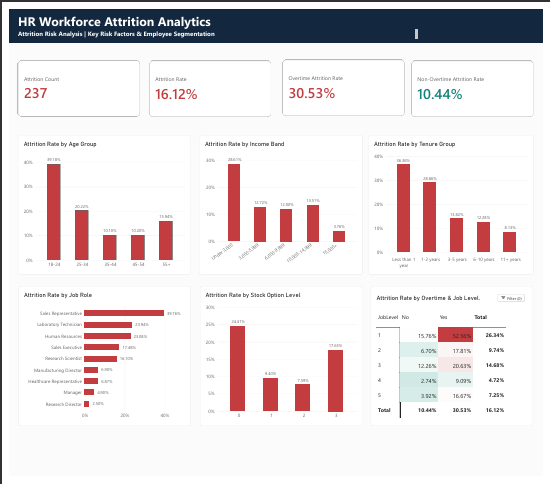

Layout of this report page (visuals, bound fields, positions):
{"tool":"powerbi","page":{"name":"\tAttrition Risk Analysis","canvas":[1600,1400],"ordinal":2},"visuals":[{"type":"shape","box":[0,0,1600.2,100.8],"z":0},{"type":"textbox","box":[24,8,1200,50],"z":1000},{"type":"cardVisual","fields":{"Data":["HR_Employees.Attrition Count"]},"box":[24,152,366,168],"z":2000},{"type":"cardVisual","fields":{"Data":["HR_Employees.Attrition Rate"]},"box":[417.5,152.5,366,168],"z":3000},{"type":"cardVisual","fields":{"Data":["HR_Employees.Overtime Attrition Rate"]},"box":[817.5,150,366,168],"z":4000},{"type":"cardVisual","fields":{"Data":["HR_Employees.Non-Overtime Attrition Rate"]},"box":[1205,152.5,366,168],"z":5000},{"type":"clusteredColumnChart","title":"Attrition Rate by Age Group","fields":{"Category":["HR_Employees.AgeGroup"],"Y":["HR_Employees.Attrition Rate"]},"box":[24,376,518,420],"z":6000},{"type":"clusteredColumnChart","title":"Attrition Rate by Income Band","fields":{"Category":["HR_Employees.IncomeBand"],"Y":["HR_Employees.Attrition Rate"]},"box":[568,376,490,420],"z":7000},{"type":"clusteredColumnChart","title":"Attrition Rate by Tenure Group","fields":{"Category":["HR_Employees.TenureGroup"],"Y":["HR_Employees.Attrition Rate"]},"box":[1076,376,496,420],"z":8000},{"type":"clusteredBarChart","title":"\tAttrition Rate by Job Role","fields":{"Category":["HR_Employees.JobRole"],"Y":["HR_Employees.Attrition Rate"]},"box":[25,830,518,420],"z":9000},{"type":"clusteredColumnChart","title":"\tAttrition Rate by Stock Option Level","fields":{"Category":["HR_Employees.StockOptionLevel"],"Y":["HR_Employees.Attrition Rate"]},"box":[570,830,490,420],"z":10000},{"type":"textbox","box":[24,58,1200,36],"z":12000},{"type":"pivotTable","title":"Attrition Rate by Overtime & Job Level.","fields":{"Columns":["HR_Employees.OverTime"],"Rows":["HR_Employees.JobLevel"],"Values":["HR_Employees.Attrition Rate"]},"box":[1082.5,830,487.5,420],"z":12001}]}

Visuals, with their boxes in screenshot pixels (x1, y1, x2, y2), scaled from the page's 1600x1400 canvas onto the 550x484 screenshot:
shape: box=[0, 0, 549, 35]
textbox: box=[8, 3, 421, 20]
cardVisual - HR_Employees.Attrition Count: box=[8, 53, 134, 111]
cardVisual - HR_Employees.Attrition Rate: box=[144, 53, 269, 111]
cardVisual - HR_Employees.Overtime Attrition Rate: box=[281, 52, 407, 110]
cardVisual - HR_Employees.Non-Overtime Attrition Rate: box=[414, 53, 540, 111]
"Attrition Rate by Age Group" clusteredColumnChart: box=[8, 130, 186, 275]
"Attrition Rate by Income Band" clusteredColumnChart: box=[195, 130, 364, 275]
"Attrition Rate by Tenure Group" clusteredColumnChart: box=[370, 130, 540, 275]
"	Attrition Rate by Job Role" clusteredBarChart: box=[9, 287, 187, 432]
"	Attrition Rate by Stock Option Level" clusteredColumnChart: box=[196, 287, 364, 432]
textbox: box=[8, 20, 421, 32]
"Attrition Rate by Overtime & Job Level." pivotTable: box=[372, 287, 540, 432]
